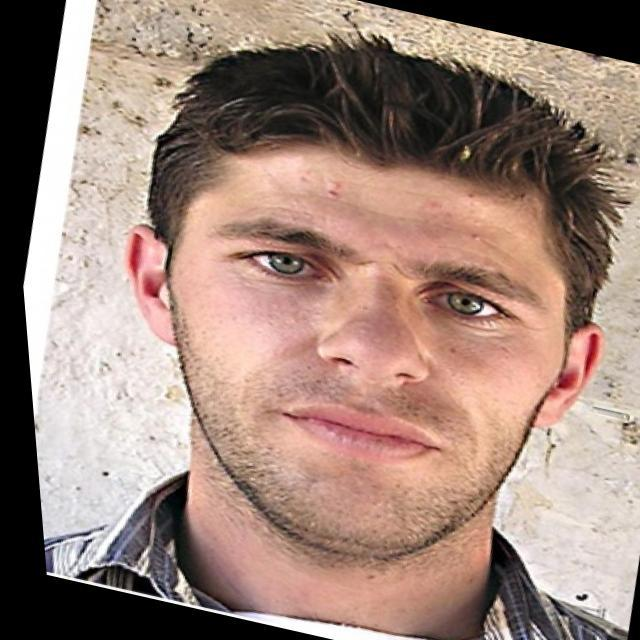Nonhelmet: (123, 28, 621, 564)
